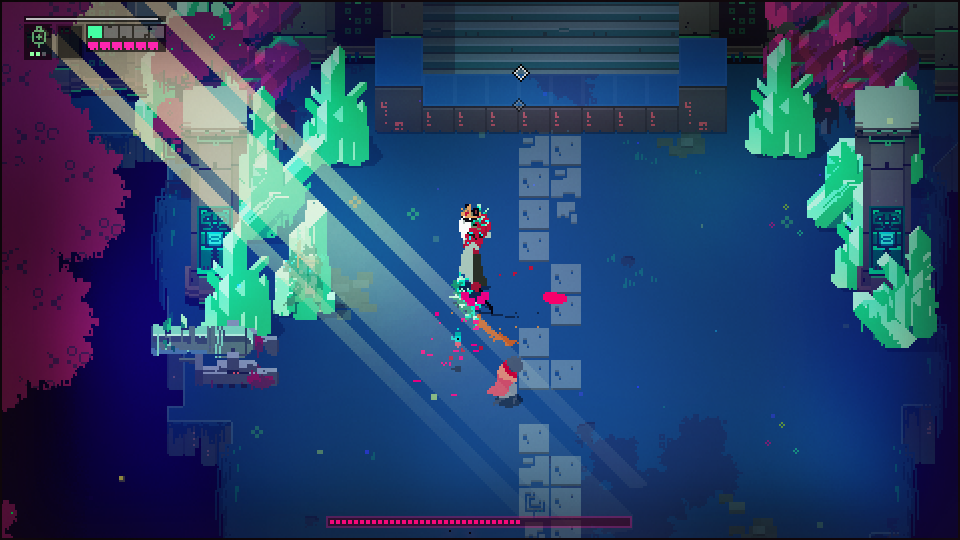hanged_man: (456, 201, 512, 329)
player: (483, 355, 524, 402)
